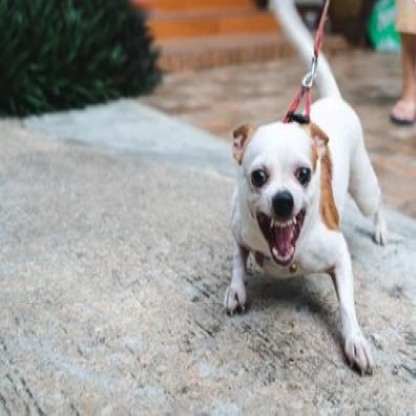chihuahua: (221, 91, 391, 377)
